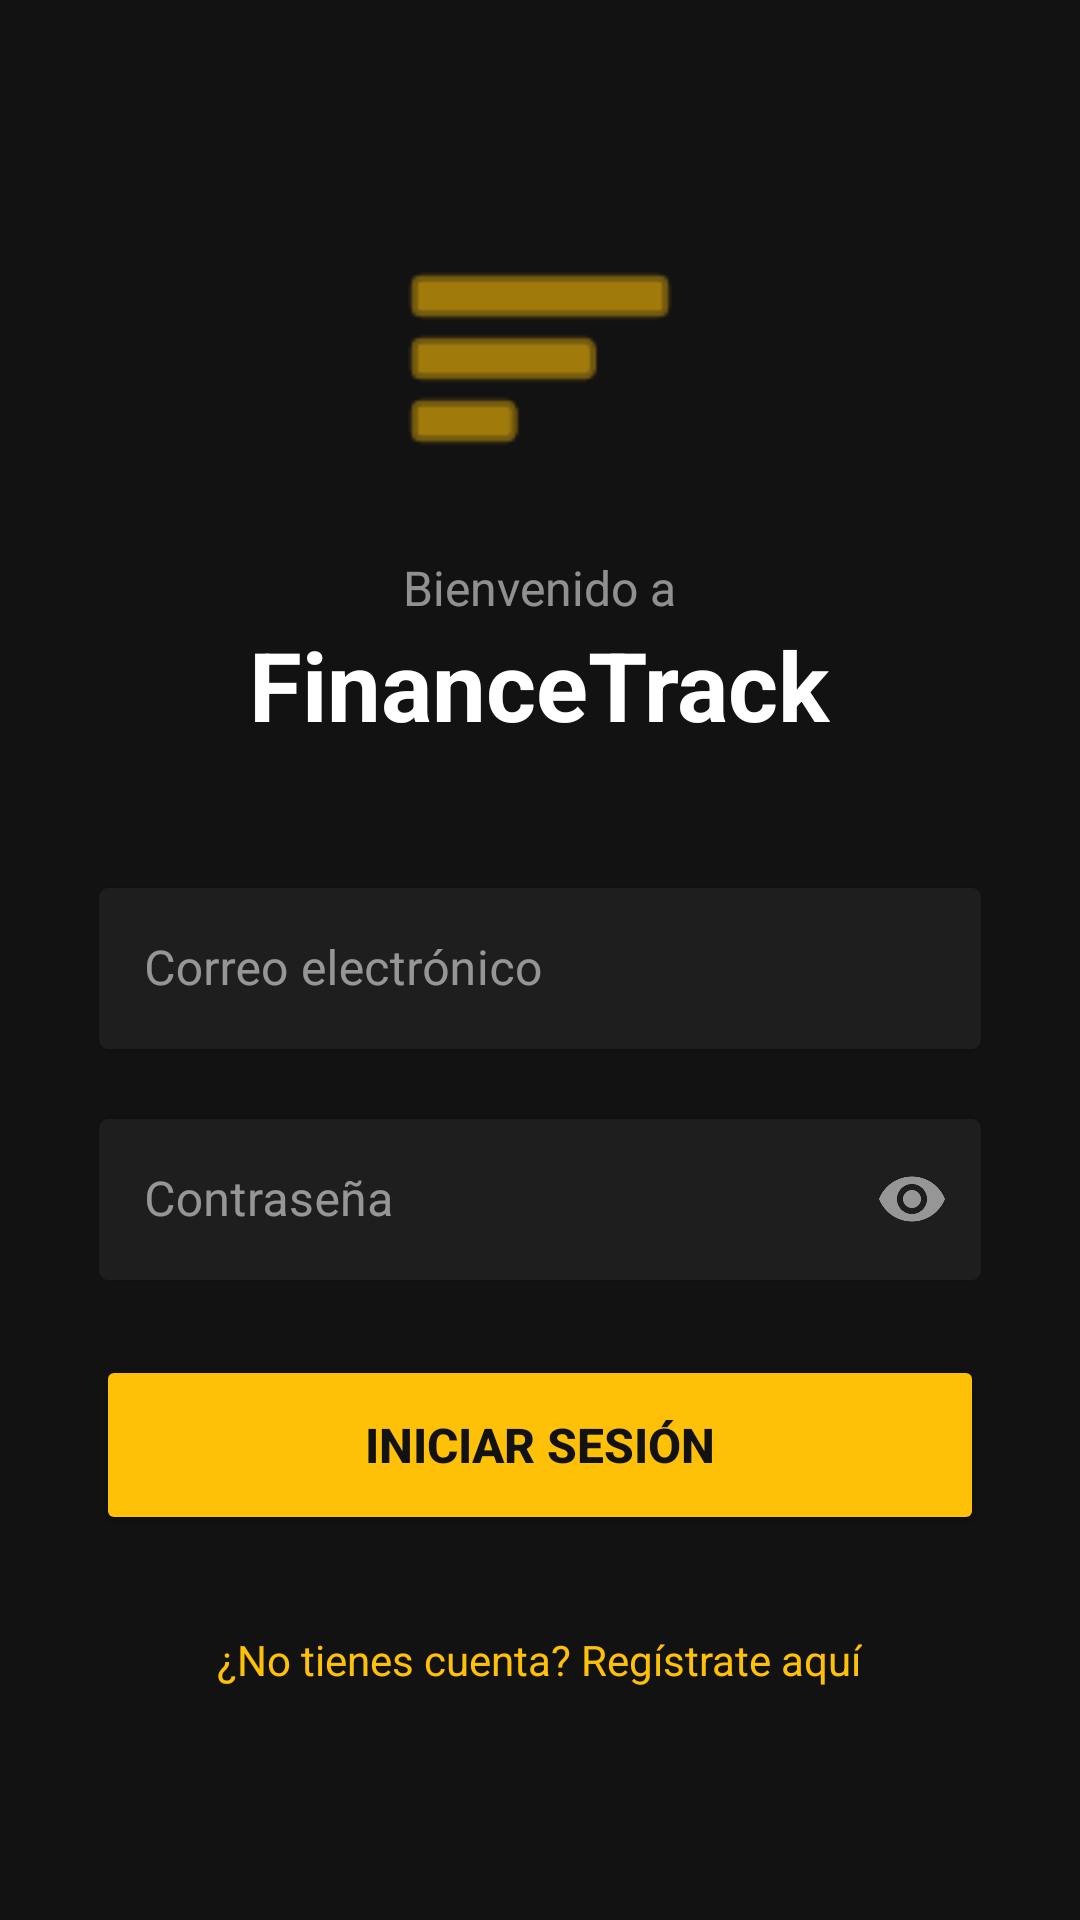

Icons on this 1080×1920 Android screen, each with its box as (x1, y1, x2, y2):
sort by size: (410, 274, 670, 443)
